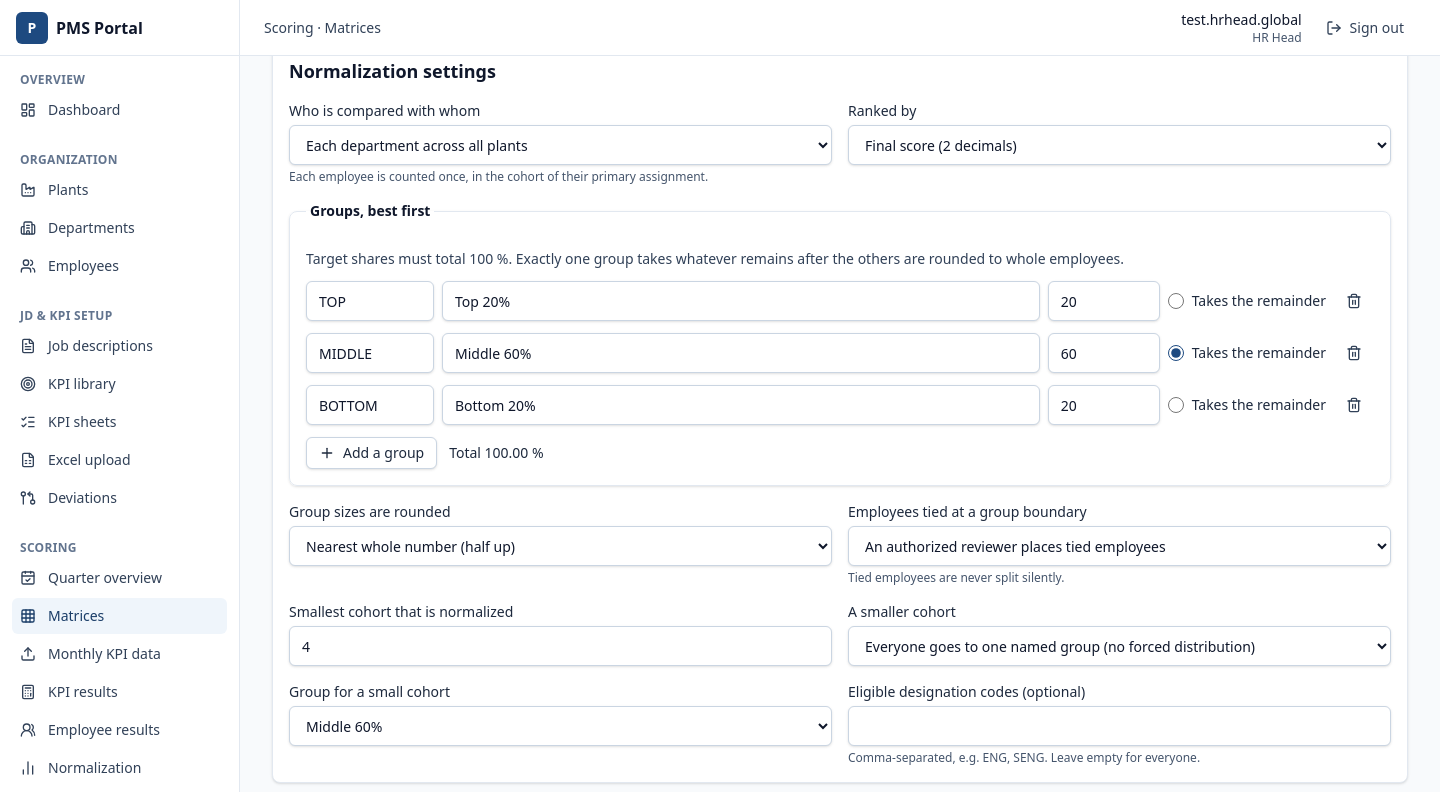
Test: normalization policy › edits the groups in the portal and keeps the group input in step
The width and height of the screenshot is (1440, 792).
(page scrolled)
Check: the text "Total 100.00 %" is shown, box [449,443,544,463]
Replace the text in the field named "Target % of group 3" with "30" at [1104, 405], box [1048,385,1160,425]
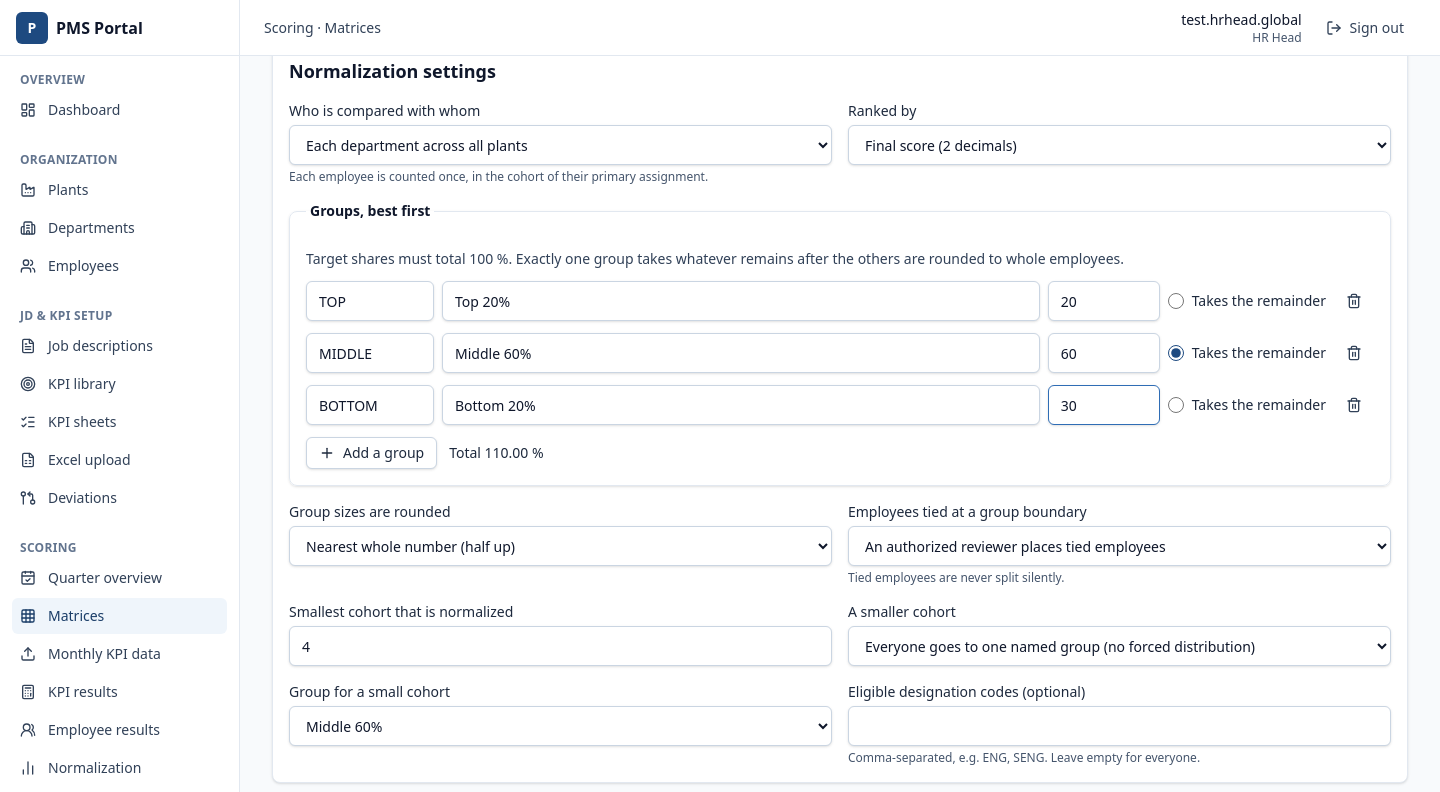
Check: the text "Total 110.00 %" is shown, box [449,443,544,463]
Replace the text in the field named "Target % of group 3" with "20" at [1104, 405], box [1048,385,1160,425]
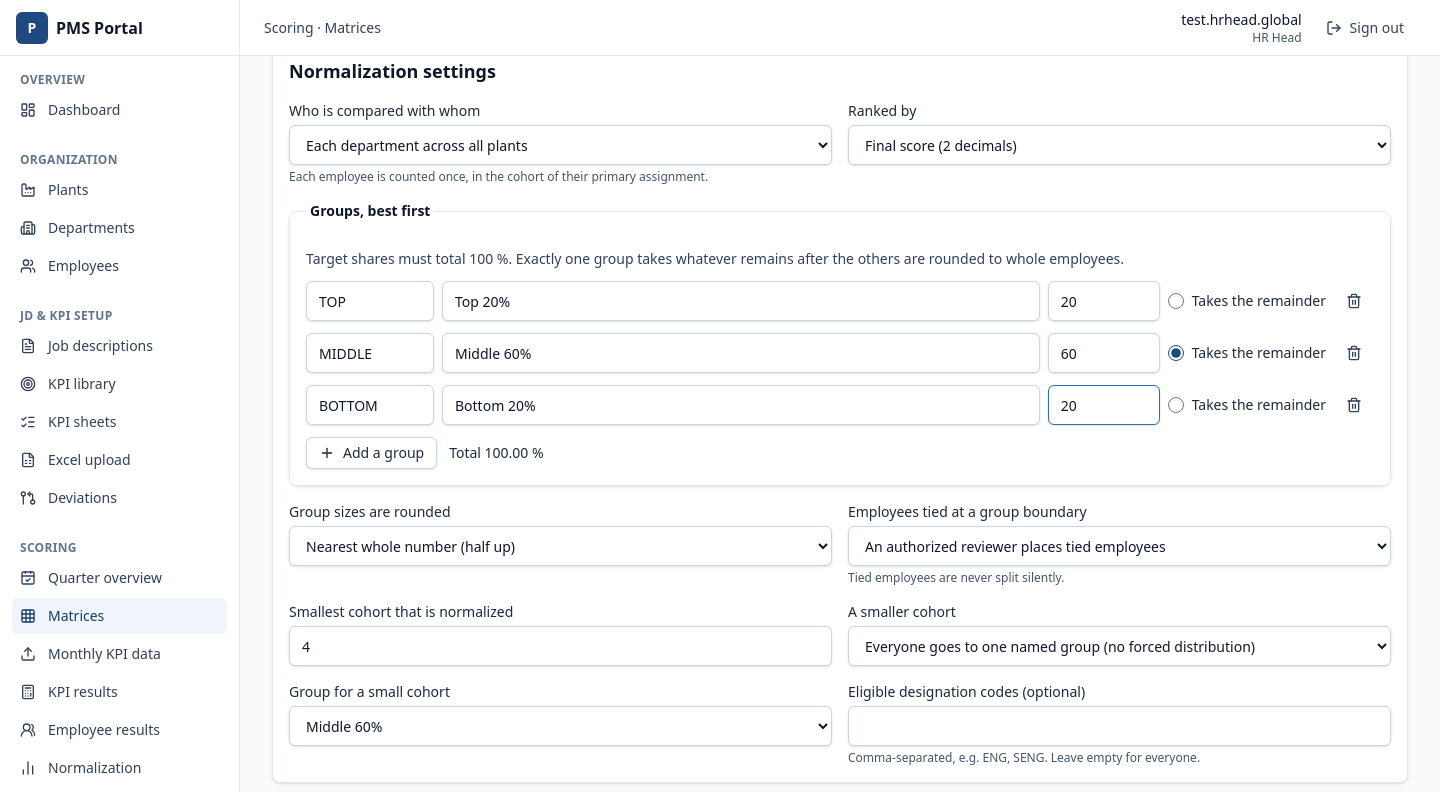
Replace the text in the field named "Key of group 3" with "low" at [370, 405], box [306,385,434,425]
(page scrolled)
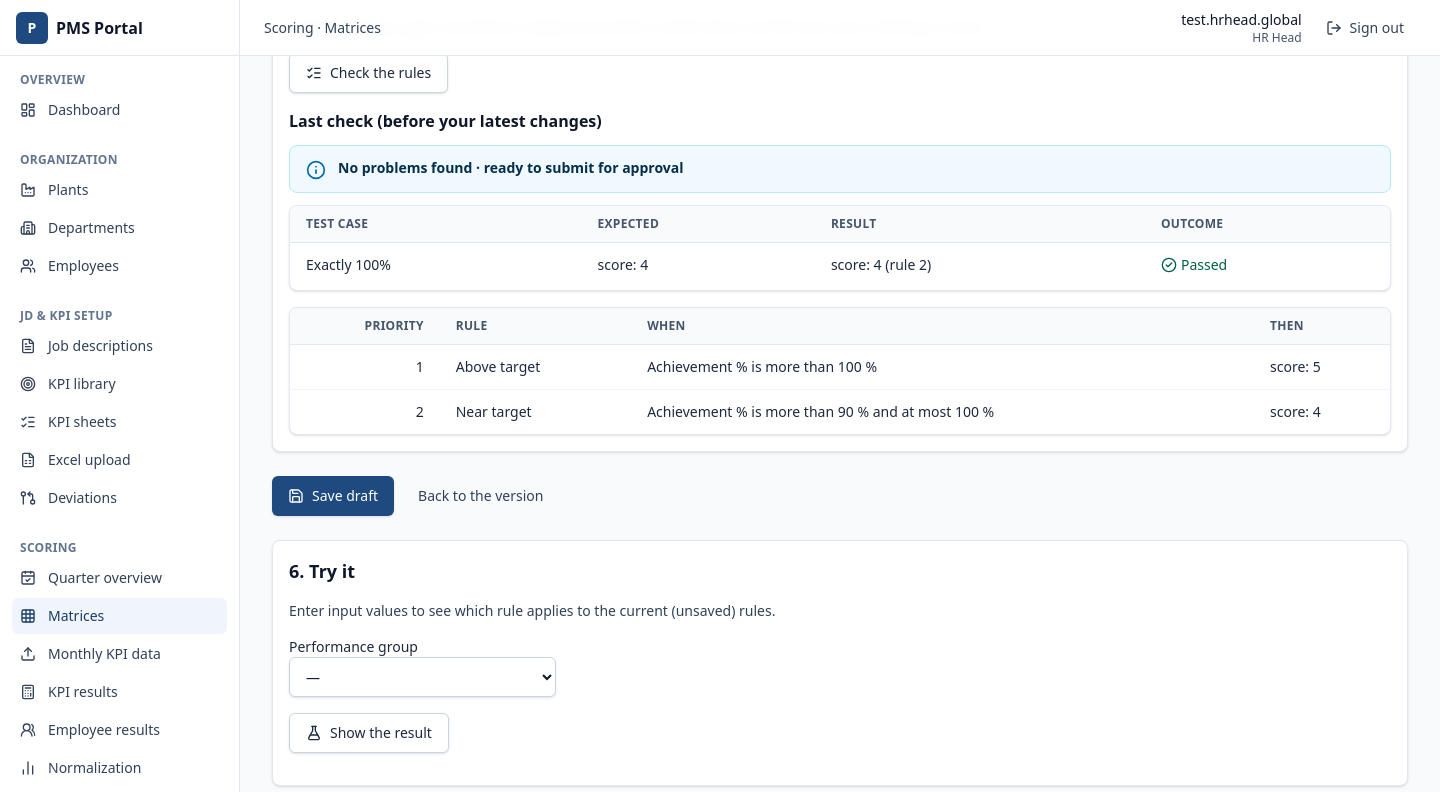
Click the button "Save draft".
click(333, 496)  # box [272,476,394,516]
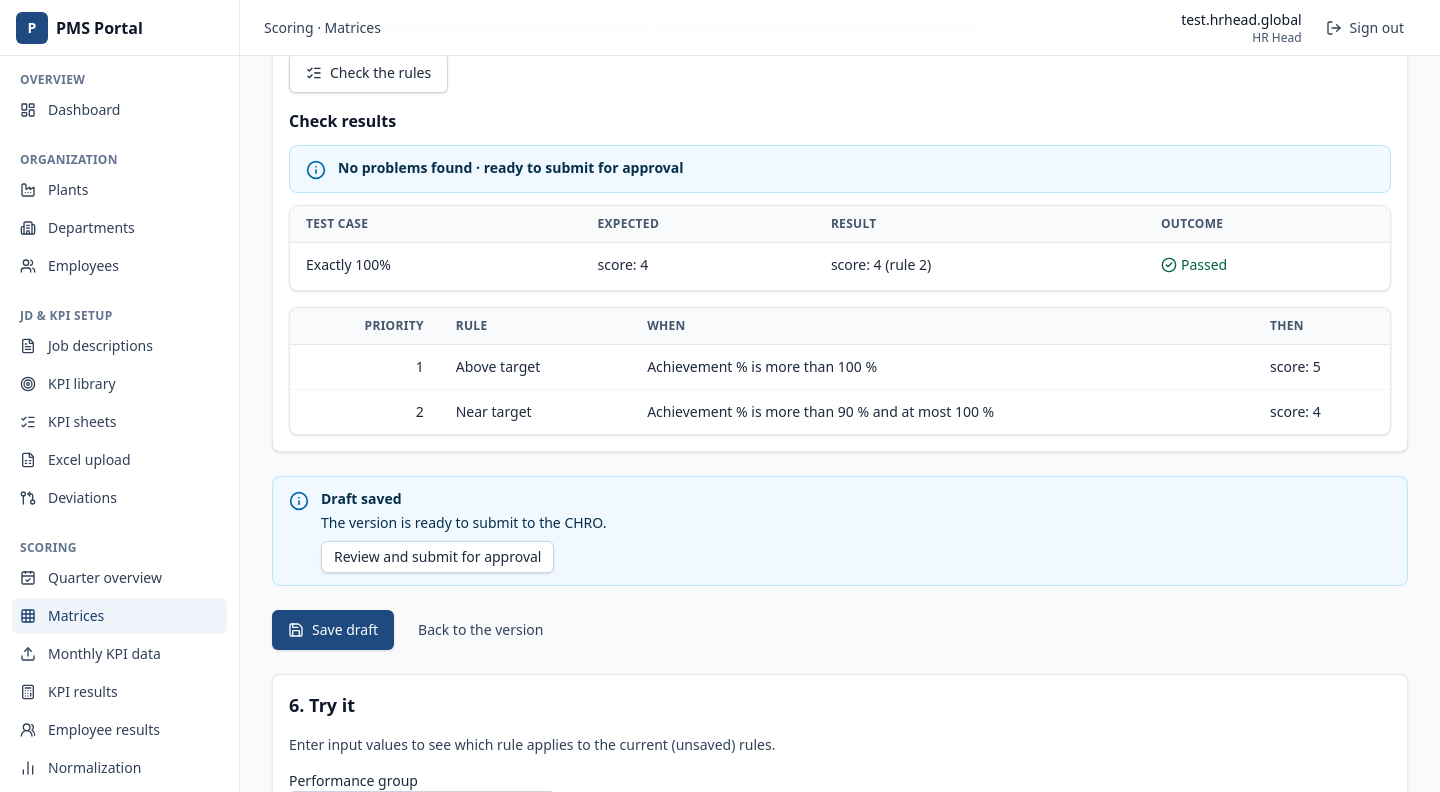
Check: the text "Draft saved" is shown, box [321,489,402,508]
